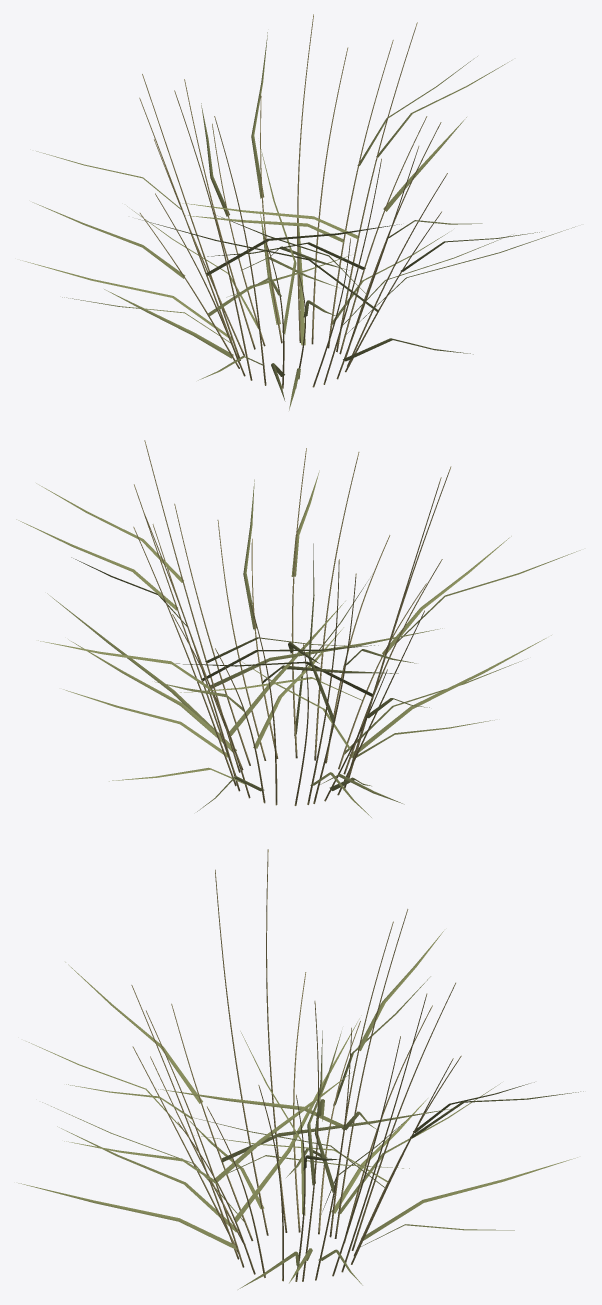
The model's file is Herbes_1_Niveau1.fbx.
3 renders of one model, top to bottom at view 1: azimuth 30°, elevation 25°; view 2: azimuth 150°, elevation 25°; view 3: azimuth 270°, elevation 25°, orthographic. The views are drawn at different scales.
Parts seen in each view (by area): view 1: Herbes_1_Niveau1_Jeu; view 2: Herbes_1_Niveau1_Jeu; view 3: Herbes_1_Niveau1_Jeu.
Part boxes in pixels (<box>): Herbes_1_Niveau1_Jeu: <box>20,14,575,410</box>; Herbes_1_Niveau1_Jeu: <box>16,440,580,817</box>; Herbes_1_Niveau1_Jeu: <box>18,849,583,1289</box>.
Bounding box in the file's own units: 64.7 × 41.94 × 64.31.
